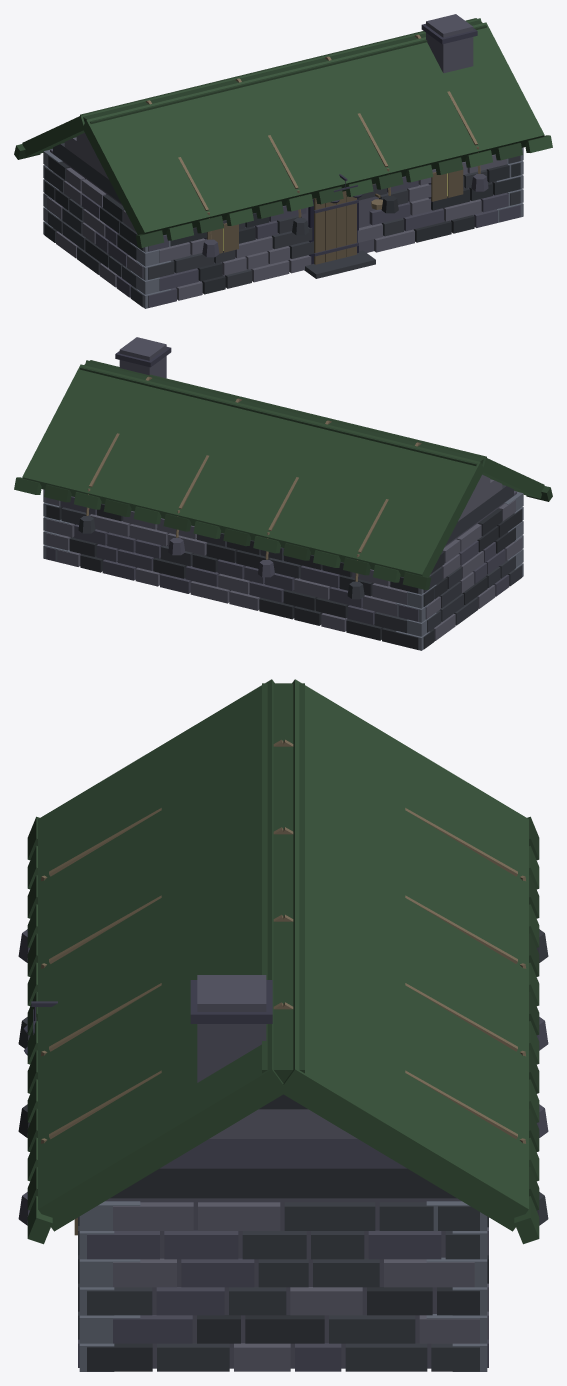
The model's file is lane_house.glb.
The picture shows the model from 3 angles, top to bottom: view 1: azimuth 30°, elevation 25°; view 2: azimuth 150°, elevation 25°; view 3: azimuth 270°, elevation 25°; orthographic projection. The views are drawn at different scales.
Visible parts, largest first — view 1: moss_d42, ink_l30, slate_d45, slate_d55, moss_d50, ink_l22, driftwood_d50, ink_l25, slate_d5, driftwood_d40, ink_l15; view 2: moss_d42, ink_l30, slate_d55, ink_l22, moss_d50, slate_d45, slate_d5, ink_l25, driftwood_d40, ink_l15; view 3: moss_d42, slate_d45, ink_l22, slate_d55, ink_l30, moss_d50, ink_l25, slate_d5, driftwood_d40, ink_l15.
Part boxes in pixels (x1,y1,x2,y2): moss_d42: [22, 18, 552, 240]; ink_l30: [47, 132, 507, 300]; slate_d45: [44, 143, 520, 307]; slate_d55: [44, 156, 520, 294]; moss_d50: [14, 18, 522, 247]; ink_l22: [81, 174, 520, 307]; driftwood_d50: [206, 166, 463, 264]; ink_l25: [50, 14, 493, 288]; slate_d5: [43, 147, 523, 308]; driftwood_d40: [145, 34, 480, 239]; ink_l15: [314, 23, 477, 256]; moss_d42: [14, 360, 544, 582]; ink_l30: [46, 474, 522, 640]; slate_d55: [46, 503, 522, 649]; ink_l22: [46, 496, 509, 624]; moss_d50: [44, 360, 552, 589]; slate_d45: [61, 485, 522, 633]; slate_d5: [43, 489, 523, 650]; ink_l25: [61, 337, 516, 628]; driftwood_d40: [86, 376, 421, 581]; ink_l15: [115, 347, 171, 367]; moss_d42: [27, 679, 539, 1244]; slate_d45: [18, 929, 548, 1371]; ink_l22: [18, 929, 548, 1371]; slate_d55: [18, 1094, 488, 1371]; ink_l30: [113, 1109, 488, 1371]; moss_d50: [27, 683, 539, 1210]; ink_l25: [105, 975, 461, 1368]; slate_d5: [79, 1201, 487, 1371]; driftwood_d40: [40, 739, 526, 1143]; ink_l15: [24, 980, 272, 1055].
Size of the model in its own units: 11 by 4.45 by 6.14.
